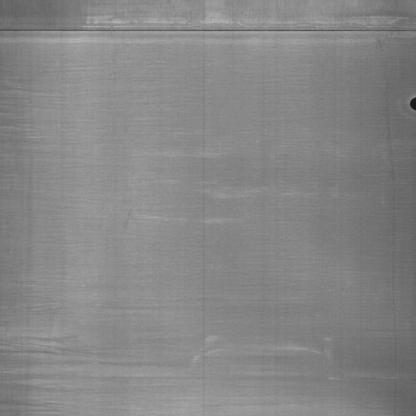punching_hole: (411, 82, 416, 118)
welding_line: (0, 21, 416, 51)
